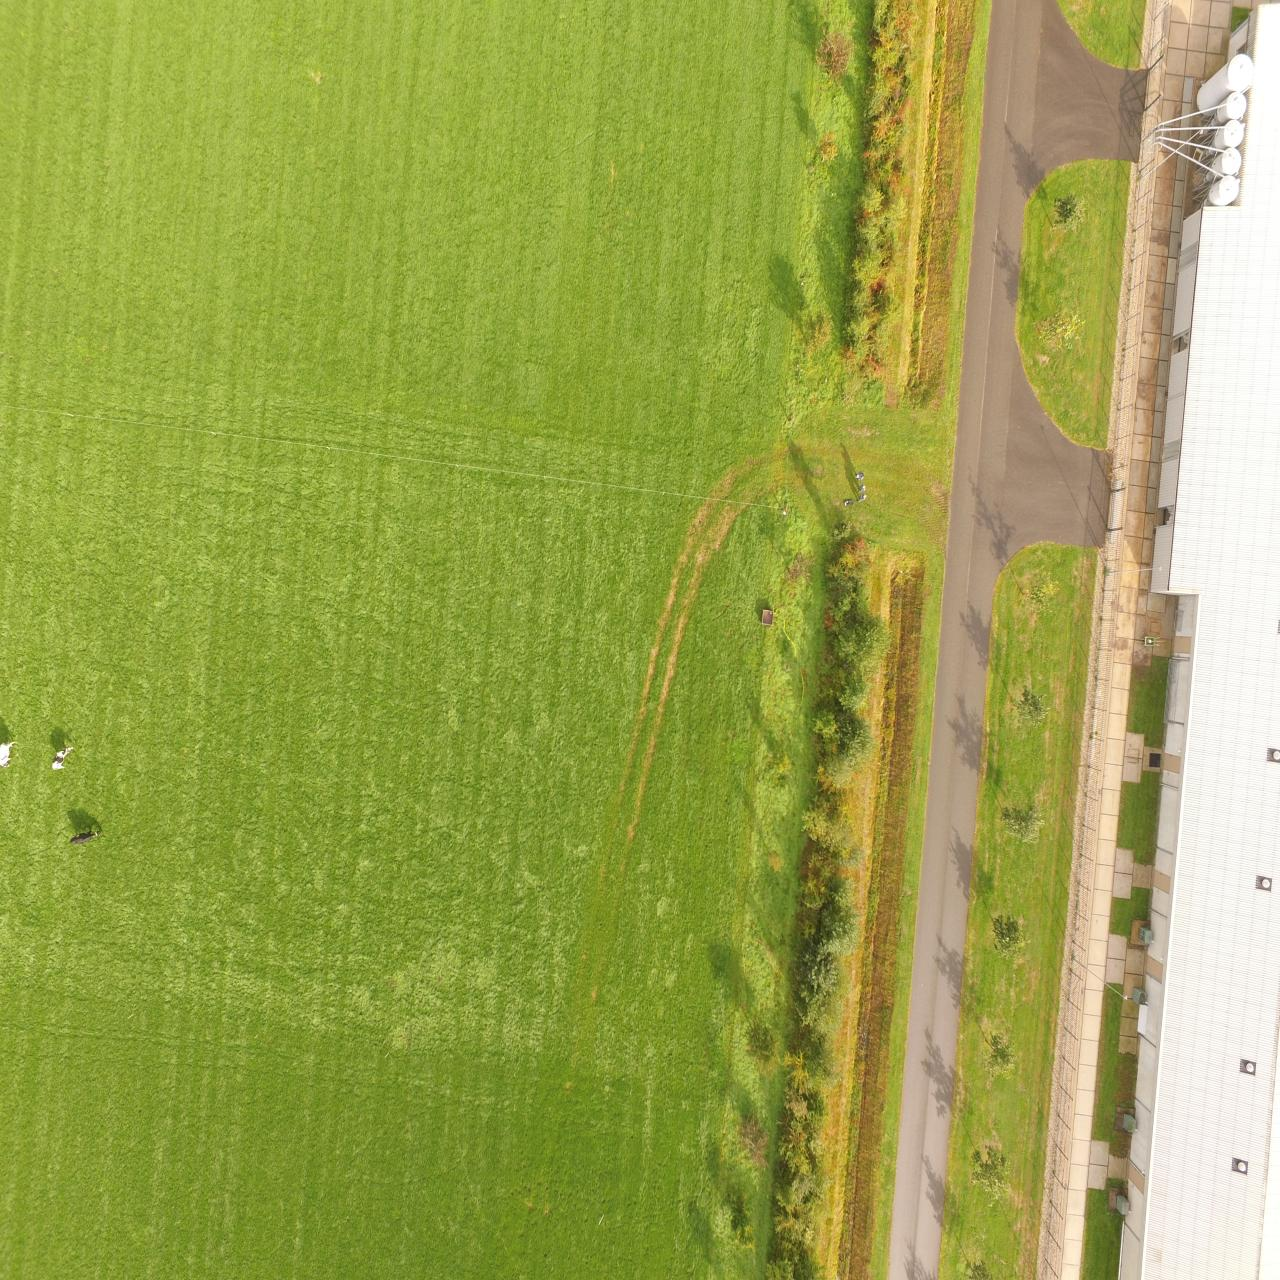cow: (52, 745, 77, 769), (70, 829, 102, 845), (1, 742, 16, 768)
